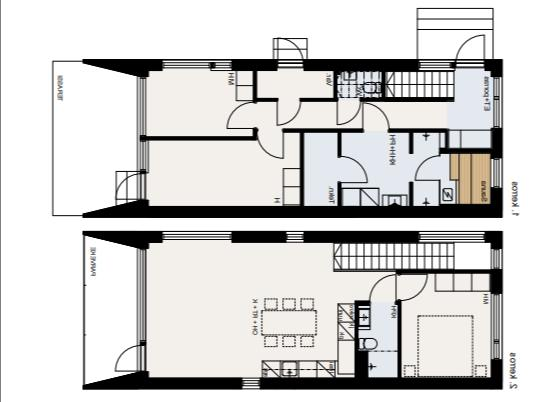door: (112, 340, 152, 376), (452, 33, 487, 69), (394, 269, 430, 303), (365, 272, 399, 307), (224, 99, 260, 132), (114, 170, 148, 202), (253, 129, 286, 161), (336, 155, 368, 185), (275, 36, 305, 68), (273, 96, 303, 127), (334, 96, 364, 127), (412, 152, 442, 182), (360, 103, 389, 132)
window: (133, 246, 151, 344), (487, 286, 507, 364), (160, 226, 235, 246), (414, 228, 489, 246), (159, 54, 212, 74), (489, 72, 506, 131), (134, 74, 148, 140), (416, 54, 456, 74), (485, 155, 506, 192), (132, 138, 148, 172), (487, 244, 506, 272), (209, 55, 234, 74), (238, 374, 264, 392), (283, 227, 307, 246)
